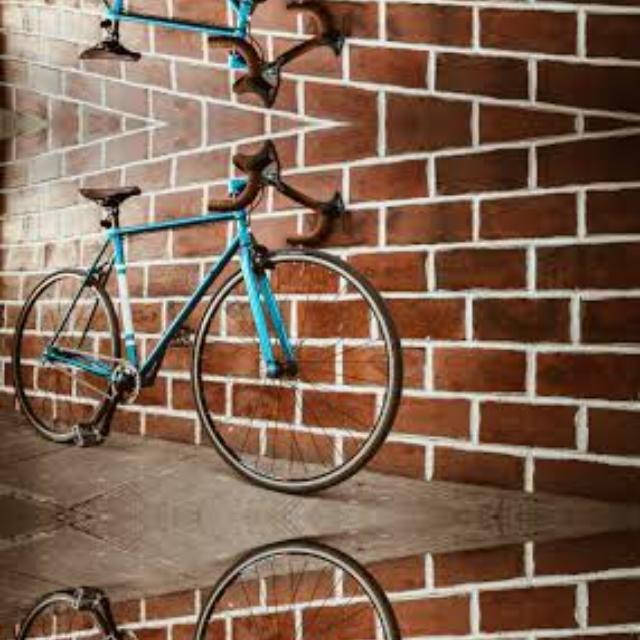obstacle: (8, 136, 420, 488), (8, 0, 419, 109), (8, 545, 419, 640)
